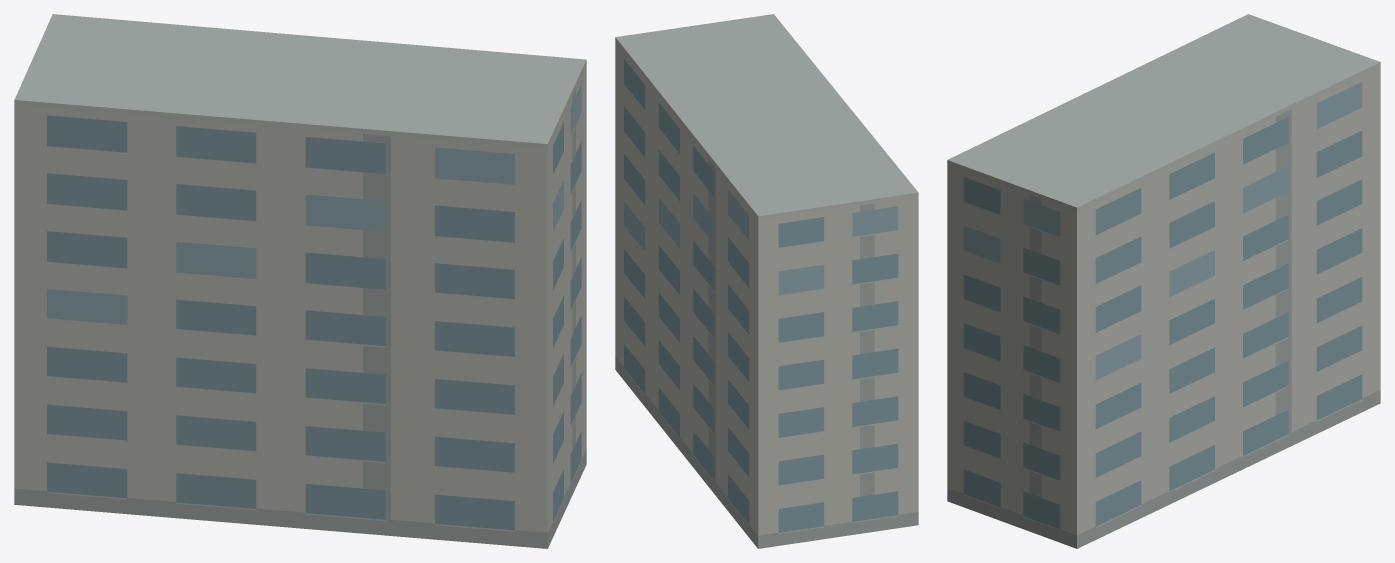
The model's file is survey-upis-33033832.glb.
3 renders of one model, left to right at view 1: azimuth 30°, elevation 25°; view 2: azimuth 150°, elevation 25°; view 3: azimuth 270°, elevation 25°, orthographic. The views are drawn at different scales.
Visible parts, largest first — view 1: survey-upis-33033832.tmp; view 2: survey-upis-33033832.tmp; view 3: survey-upis-33033832.tmp.
Boxes of the visible parts, x1,y1,x2,y2 form: survey-upis-33033832.tmp: (14, 14, 586, 548); survey-upis-33033832.tmp: (615, 14, 918, 548); survey-upis-33033832.tmp: (947, 14, 1380, 548).
Size of the model in its own units: 23 by 18.9 by 21.76.
